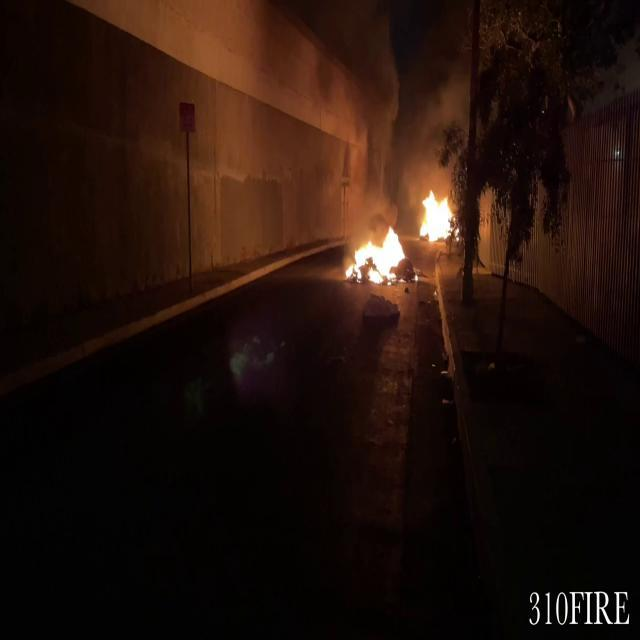Fire: (341, 218, 407, 288), (416, 183, 458, 246)
Smoke: (358, 0, 481, 196)
